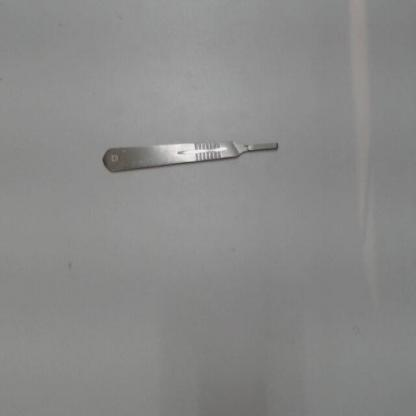No.4 BP Handle: (97, 132, 283, 178)
